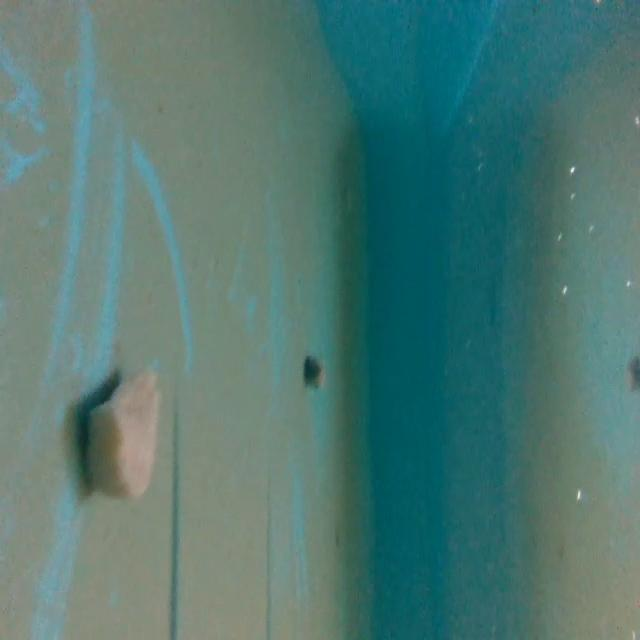rock: (83, 362, 168, 506), (300, 351, 325, 392)
